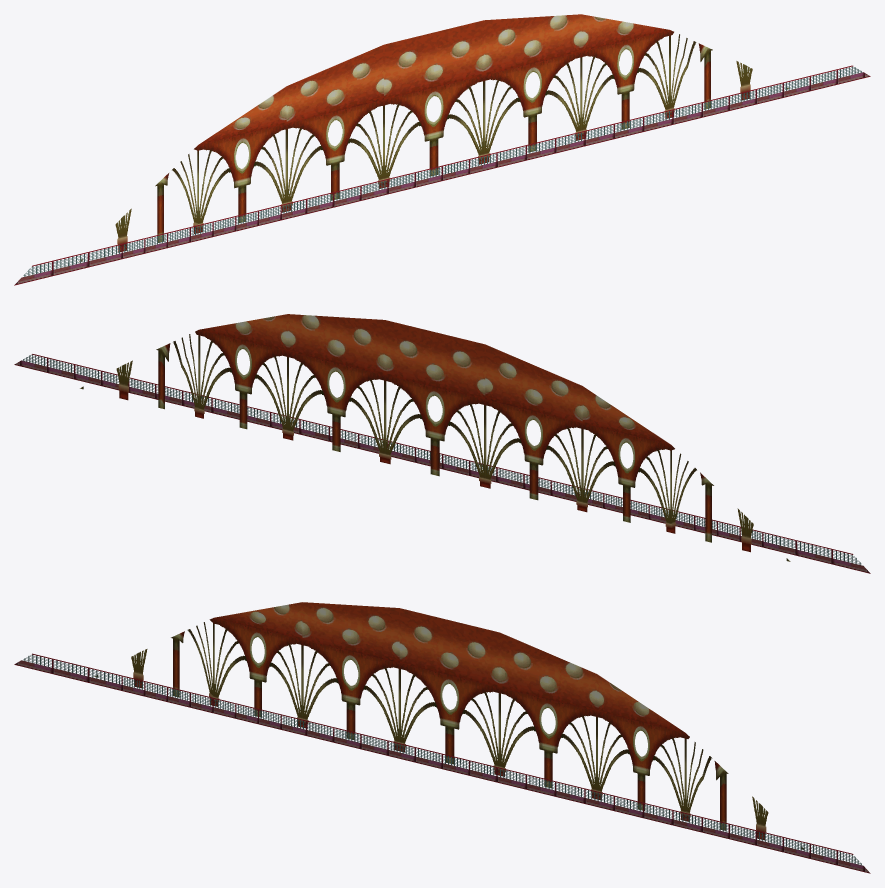
File: Mushroom+Bridgepart.fbx
3 views of the same model, one above another, from view 1: azimuth 30°, elevation 25°; view 2: azimuth 150°, elevation 25°; view 3: azimuth 330°, elevation 25° (orthographic).
Parts seen in each view (by area): view 1: default_object; view 2: default_object; view 3: default_object.
Boxes of the visible parts, x1,y1,x2,y2 form: default_object: (14, 14, 870, 285); default_object: (14, 314, 870, 573); default_object: (14, 602, 870, 873).
Size of the model in its own units: 904862 by 144375 by 14366.
